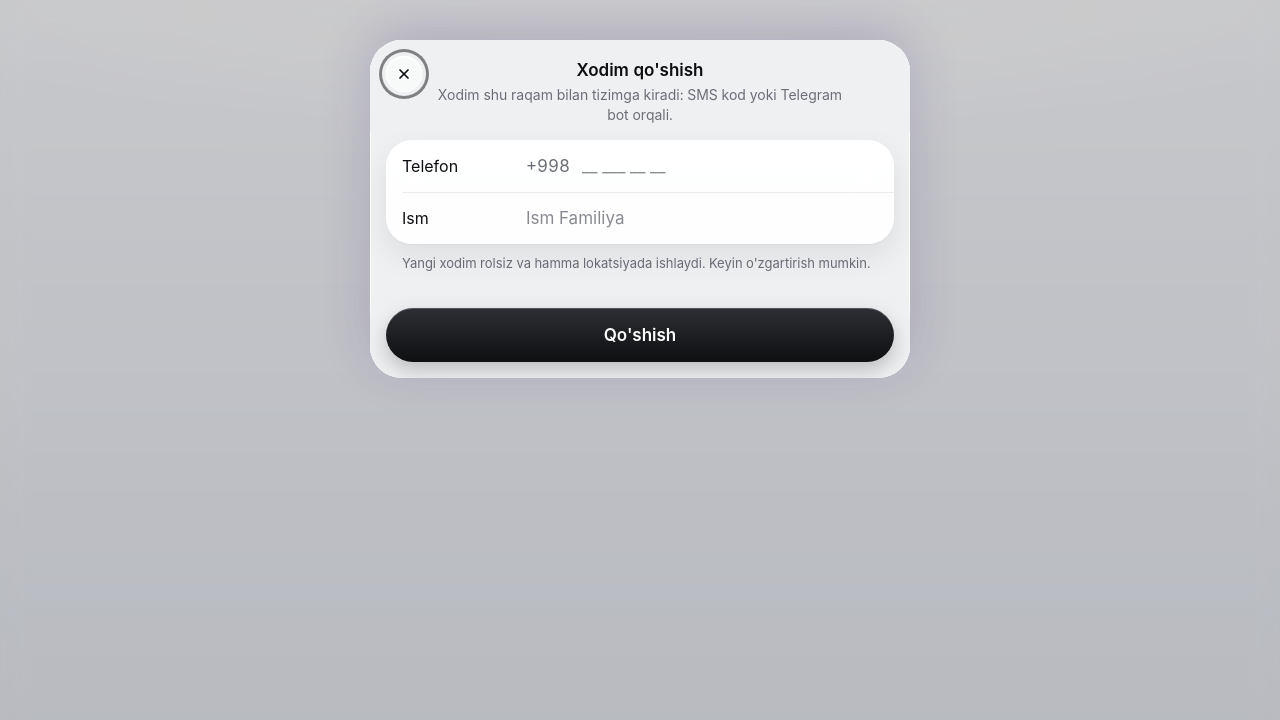
Test: the API's refusal stays in the sheet, and nobody is added
# The owner's own number is a member already.
Step 1. Type "901234567" into the field labelled "Telefon" → (730, 166), box [582,144,878,188]
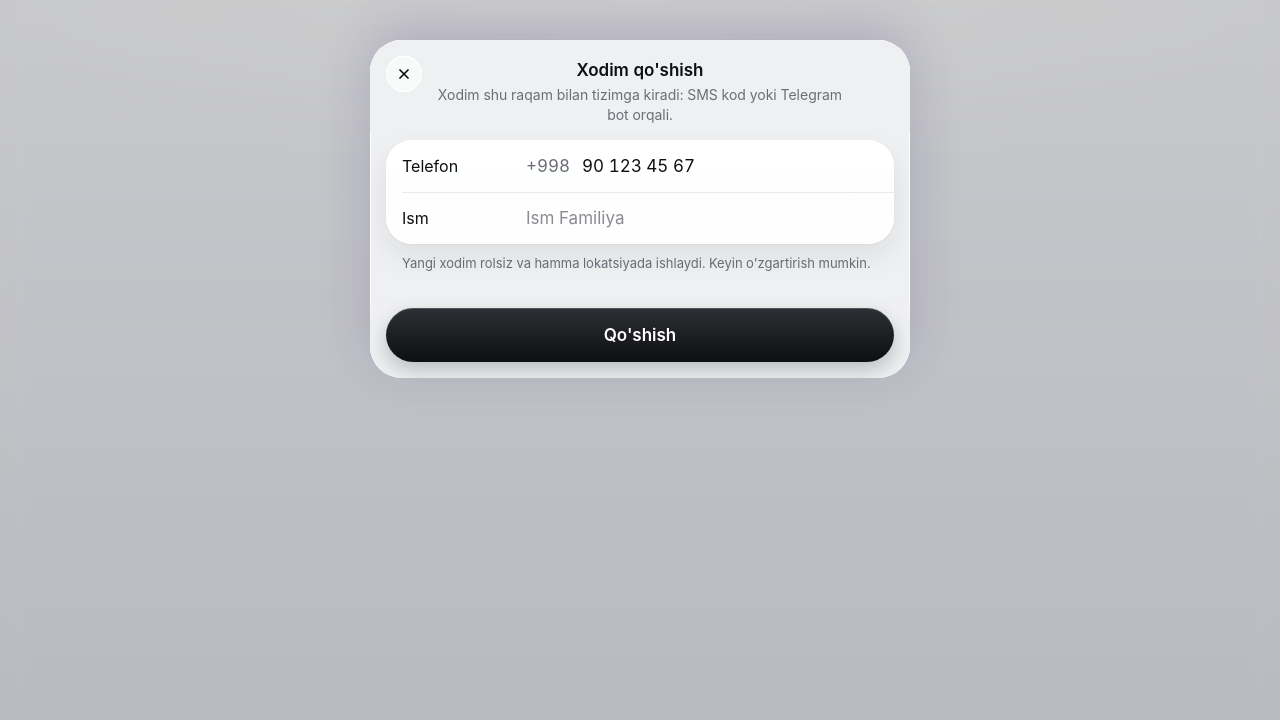
Step 2. Type "Ali" into the field labelled "Ism" → (702, 218), box [526,196,878,240]
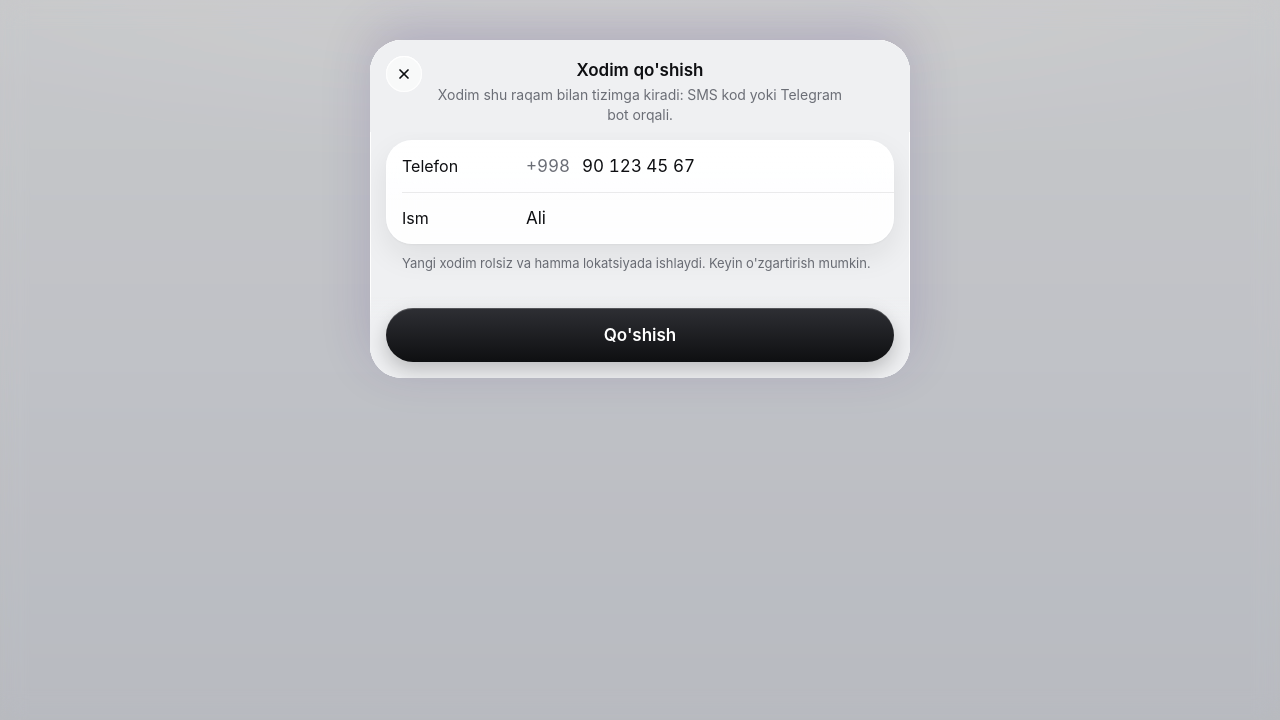
Step 3. Click the button "Qo'shish" → (640, 335), box [386,308,894,362]
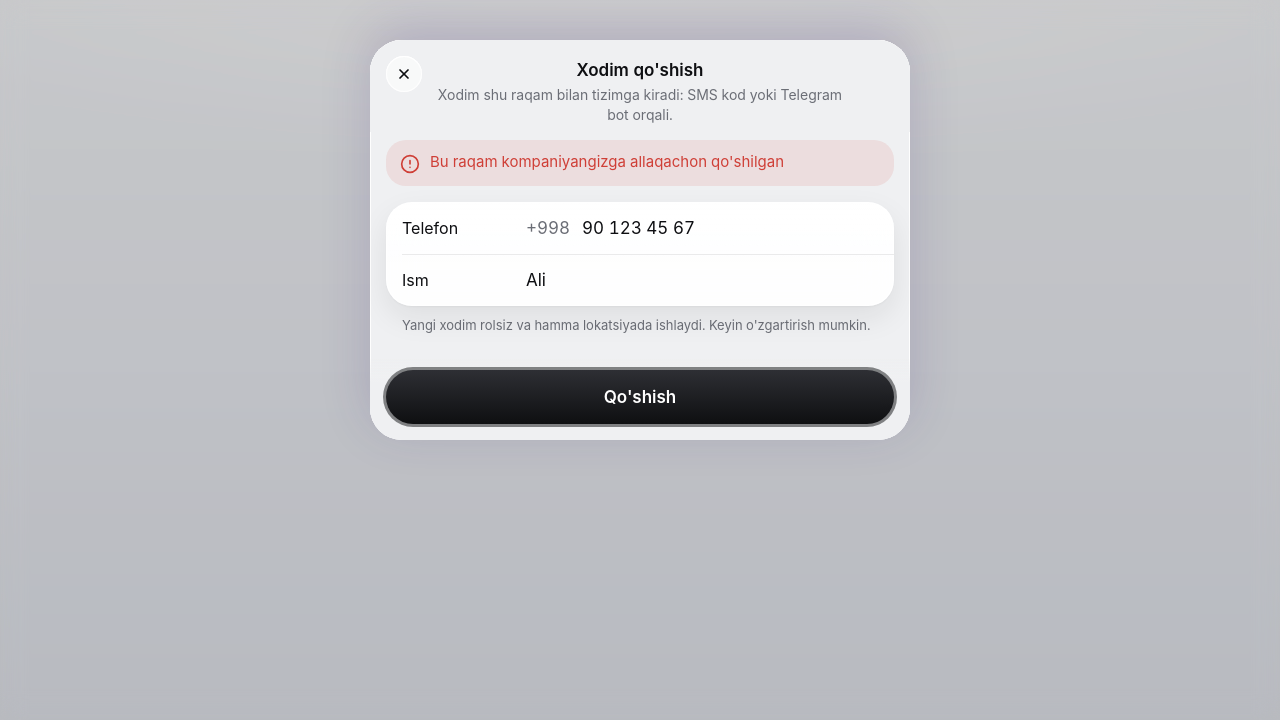
Expected: the dialog "Xodim qo'shish" is shown, [370,40,910,440]
Expected: the text "Bu raqam kompaniyangizga allaqachon qo'shilgan" is shown, [430,152,784,171]
